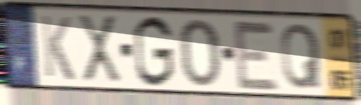E: (231, 17, 281, 93)
G: (132, 14, 176, 90)
K: (39, 12, 77, 83)
O: (178, 16, 222, 89)
Q: (280, 21, 324, 92)
X: (75, 13, 123, 85)
